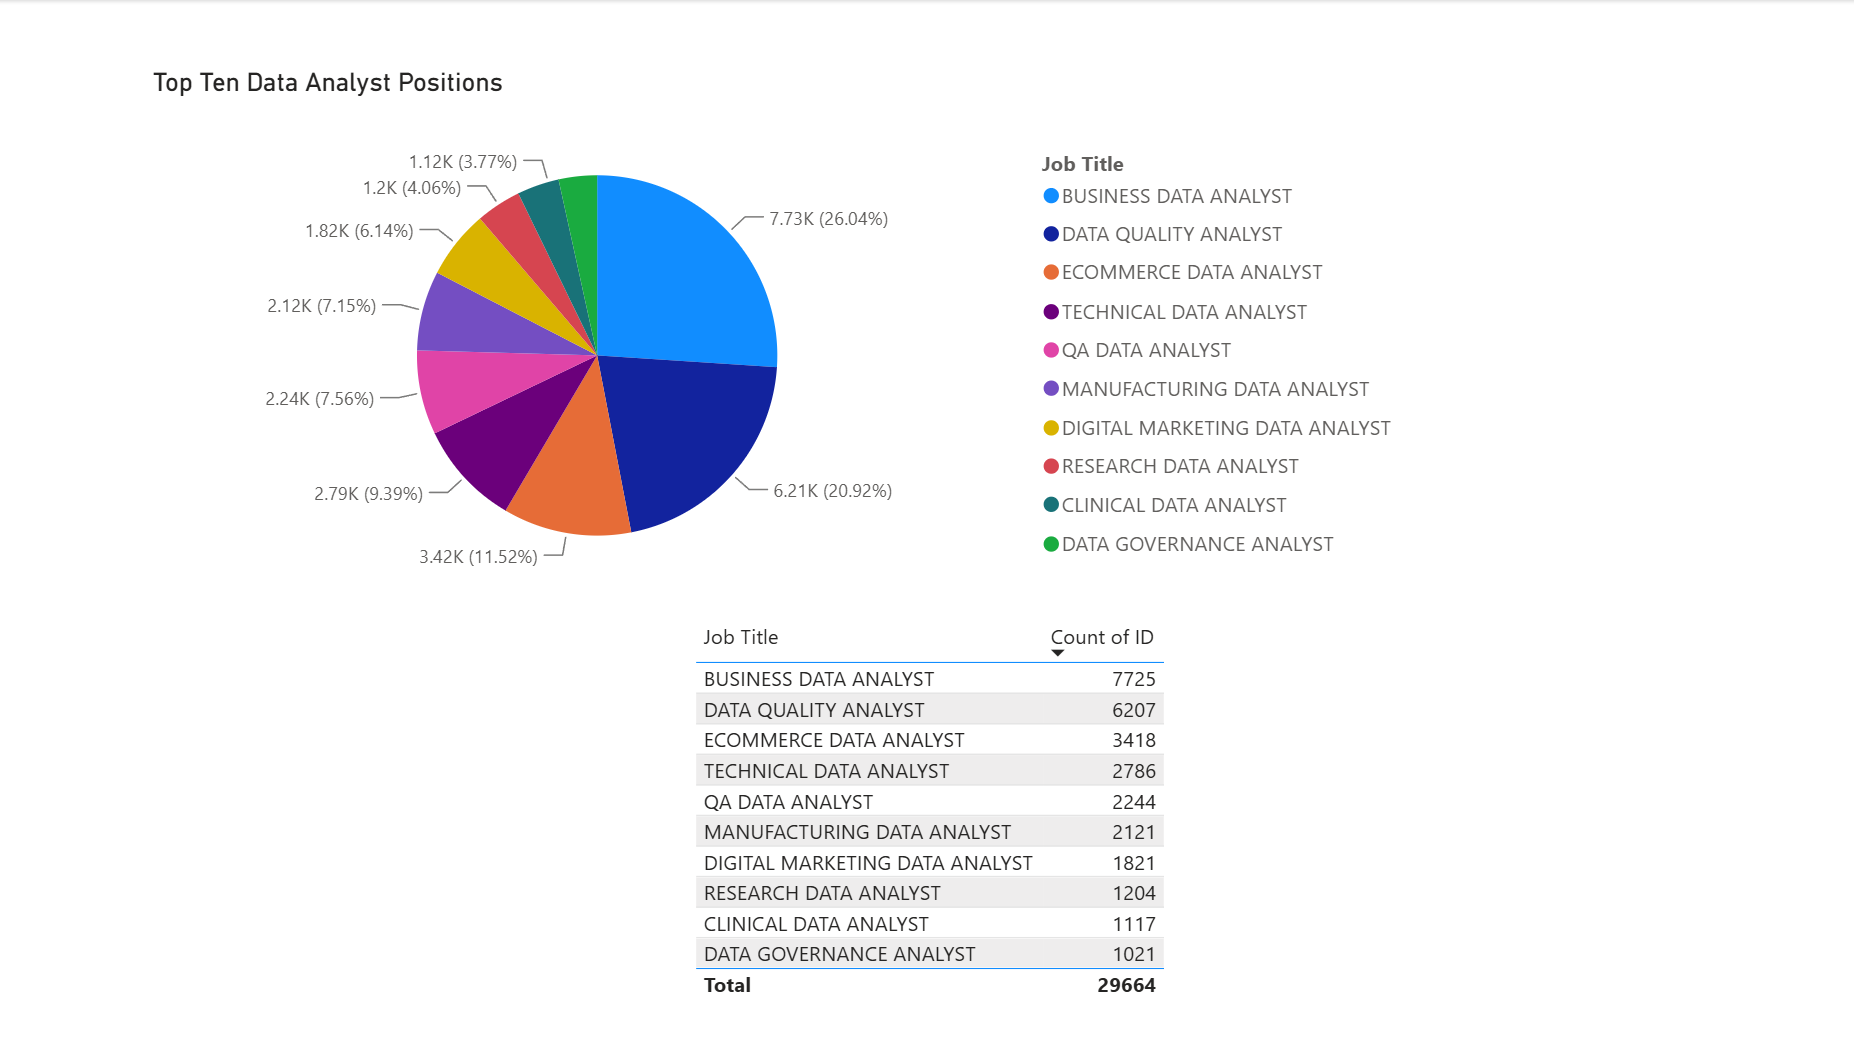

What the dashboard file says about the page in this screenshot:
{"tool":"powerbi","page":{"name":"Page 1","canvas":[1280,720],"ordinal":0},"visuals":[{"type":"pieChart","title":"Top Ten Data Analyst Positions","fields":{"Category":["2023_data_analyst_job.Job Title"],"Y":["CountNonNull(2023_data_analyst_job.Job Title)"]},"box":[95.5,43.8,829.8,347.5],"z":1},{"type":"tableEx","fields":{"Values":["2023_data_analyst_job.Job Title","CountNonNull(2023_data_analyst_job.ID)"]},"box":[450.2,401.1,830,319],"z":2}]}

Visuals, with their boxes in screenshot pixels (x1, y1, x2, y2), scaled from the page's 1280x720 canvas onto the 1854x1063 screenshot:
"Top Ten Data Analyst Positions" pieChart: region(138, 65, 1340, 578)
tableEx - 2023_data_analyst_job.Job Title x CountNonNull(2023_data_analyst_job.ID): region(652, 592, 1853, 1062)
